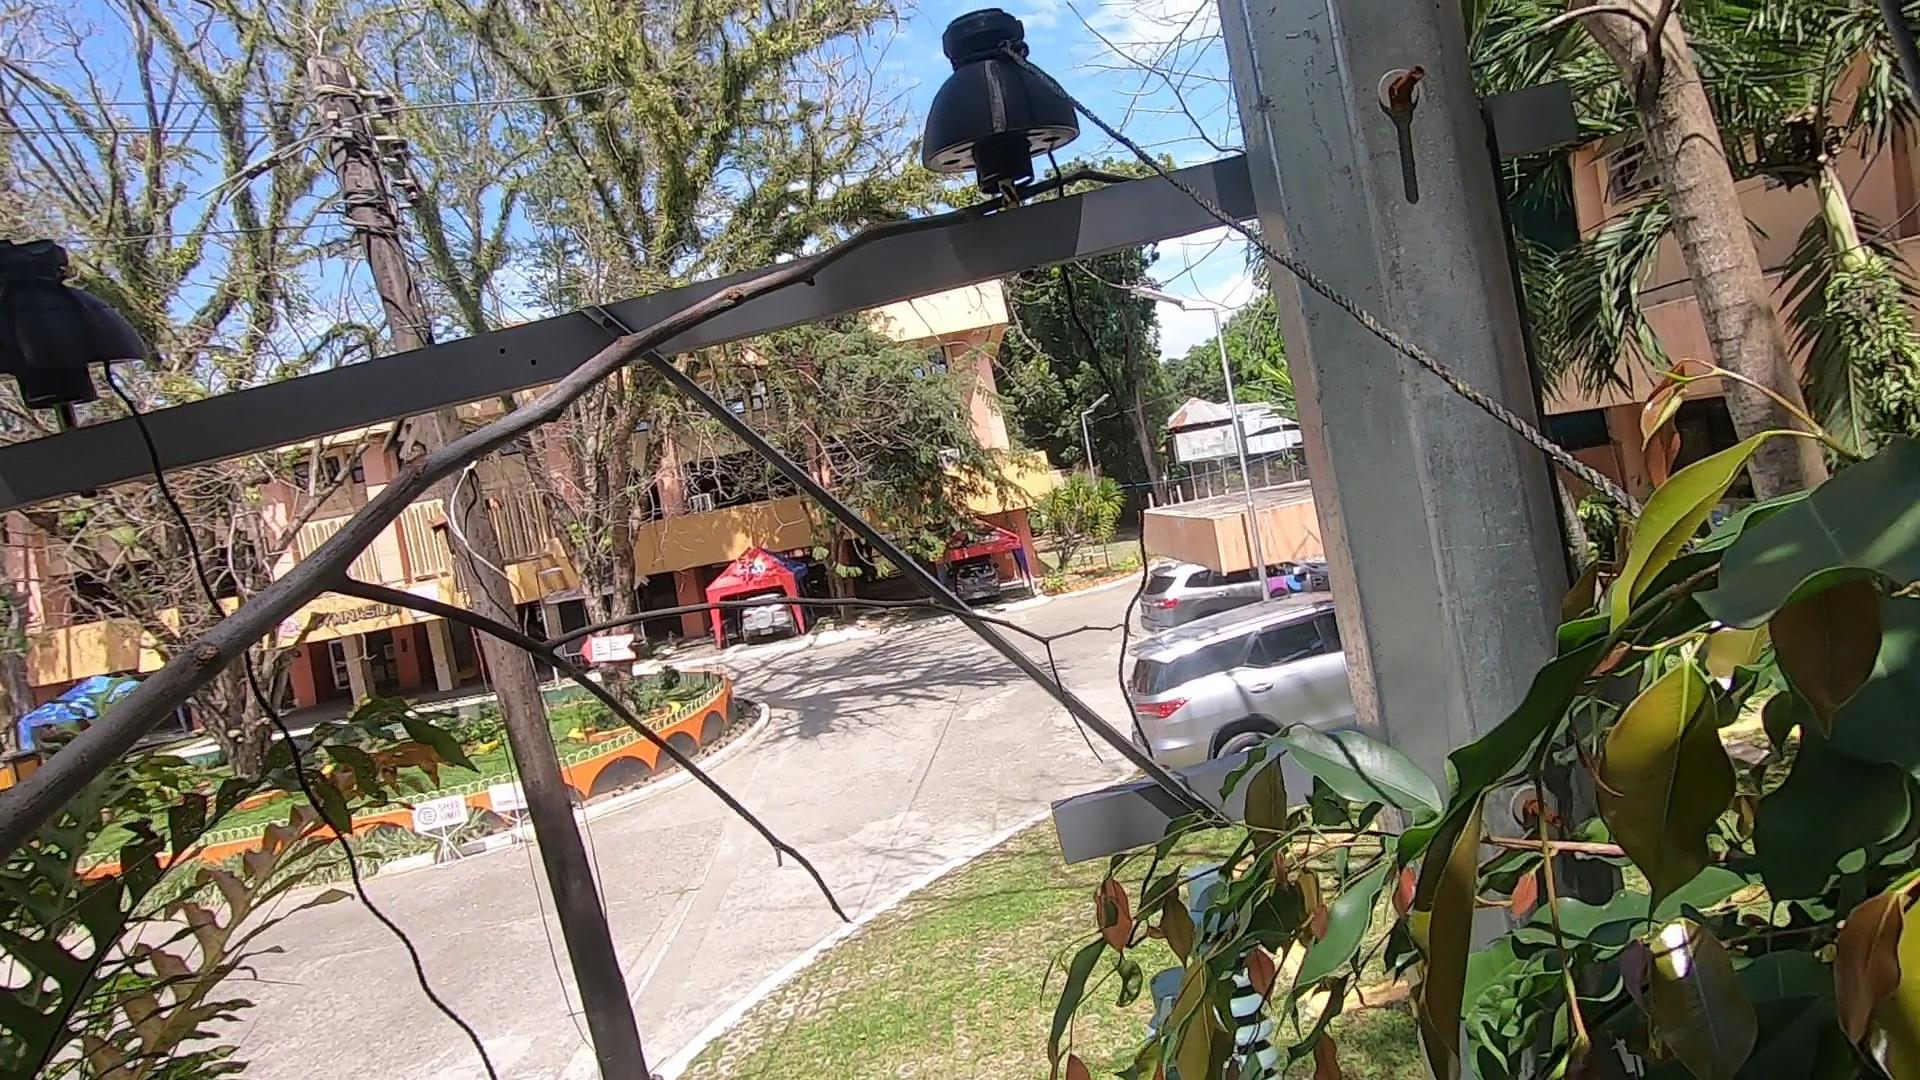branch with leaves: (961, 676, 1630, 1080)
tree branch: (1, 132, 1236, 839)
